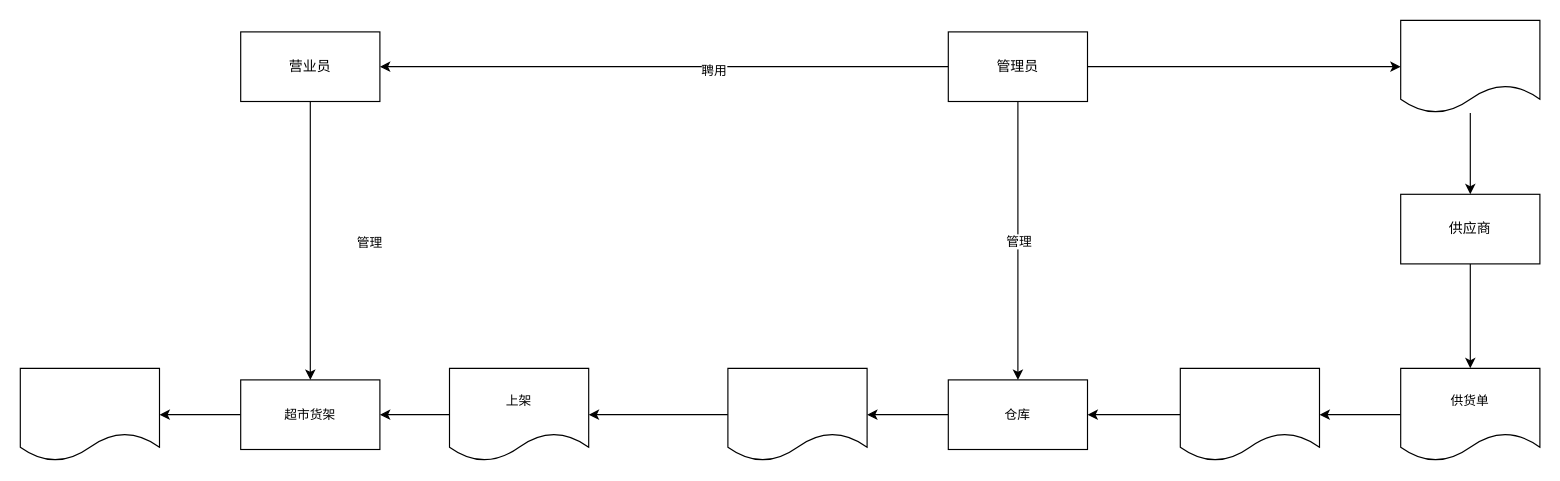
Image size: 1560x481. Some labels were removed from this diagram. Each missing label, with the centre of its shape:
"入库" belongs at (1249,414).
"出售" belongs at (89,414).
"出库" belongs at (797,414).
"定货单" belongs at (1470,66).
